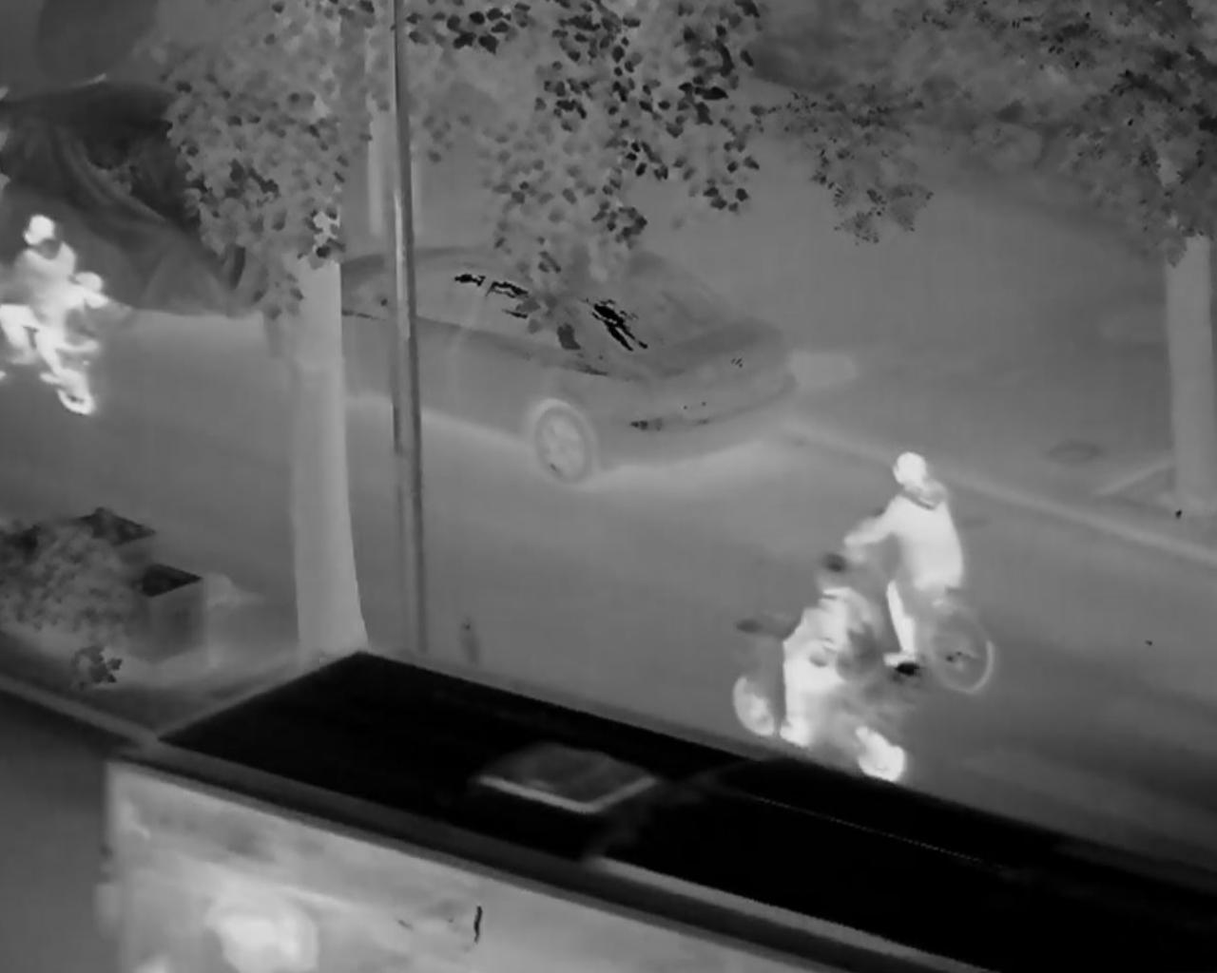person: (843, 452, 961, 670), (776, 552, 867, 744), (37, 269, 106, 376)
